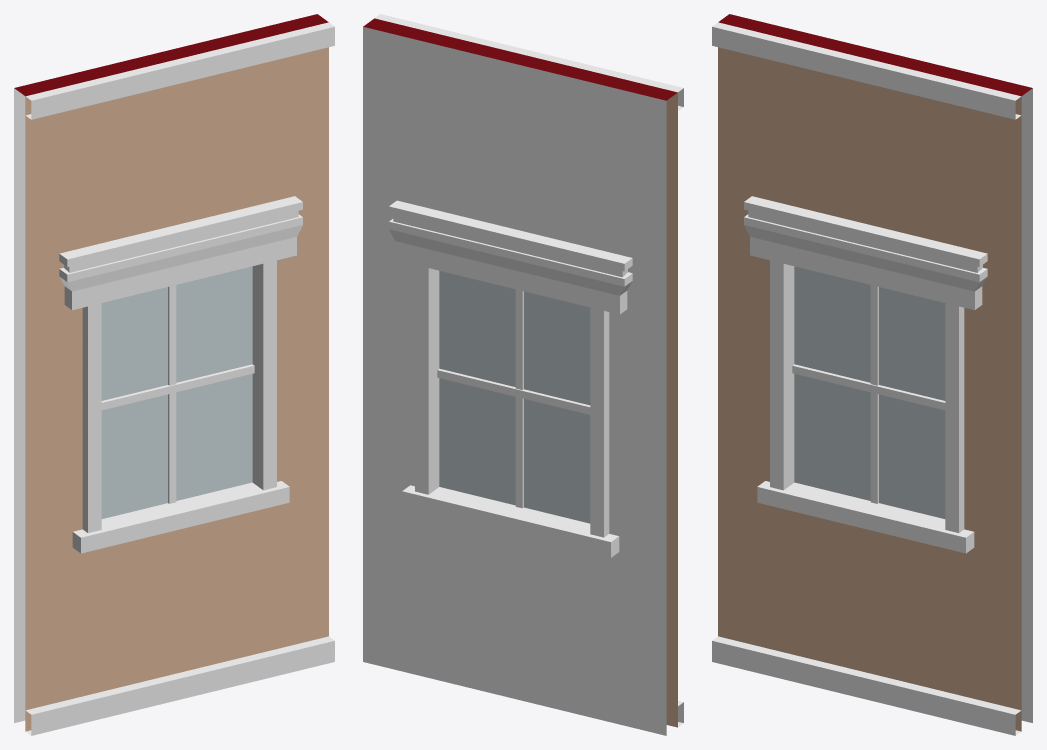
Rendered from Wall02_window.fbx.
The picture shows the model from 3 angles, left to right: view 1: azimuth 30°, elevation 25°; view 2: azimuth 150°, elevation 25°; view 3: azimuth 330°, elevation 25°; orthographic projection.
Parts seen in each view (by area): view 1: Cube.001; view 2: Cube.001; view 3: Cube.001.
Boxes of the visible parts, x1,y1,x2,y2 form: Cube.001: (14,14,334,735); Cube.001: (363,14,683,735); Cube.001: (712,14,1032,735).
Size of the model in its own units: 200 by 400 by 31.67.
